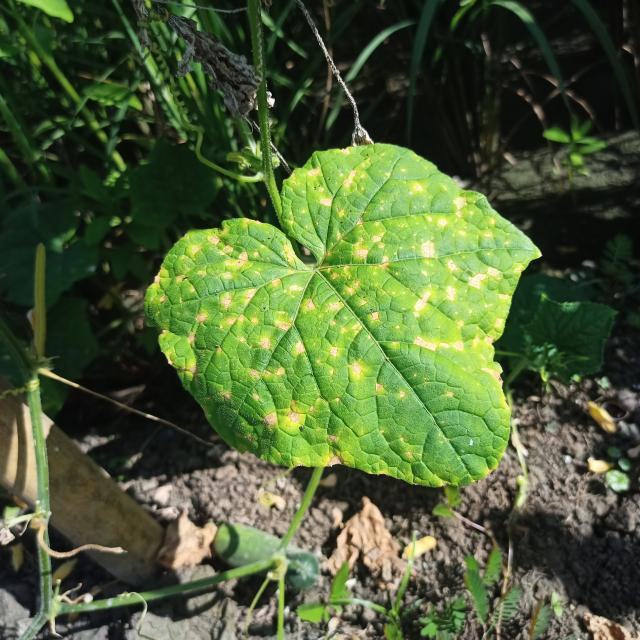disease_cucumber: (156, 150, 524, 459)
